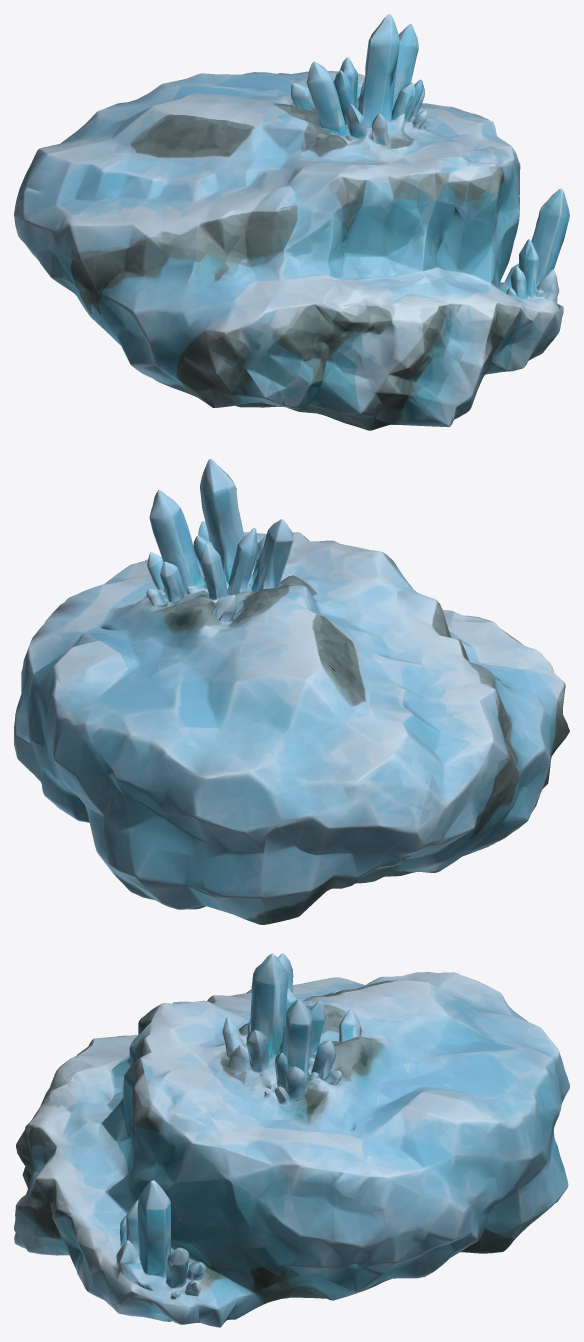
The model's file is 09_ice_asteroid.fbx.
3 renders of one model, top to bottom at view 1: azimuth 30°, elevation 25°; view 2: azimuth 150°, elevation 25°; view 3: azimuth 270°, elevation 25°, orthographic. The views are drawn at different scales.
Parts seen in each view (by area): view 1: 09_ice_asteroid; view 2: 09_ice_asteroid; view 3: 09_ice_asteroid.
Part boxes in pixels (box(x1,y1,x2,y2)): 09_ice_asteroid: box(14, 14, 569, 430); 09_ice_asteroid: box(14, 459, 569, 924); 09_ice_asteroid: box(14, 953, 569, 1327).
Bounding box in the file's own units: 18.18 × 13.73 × 20.
1 material, 1 textured.
